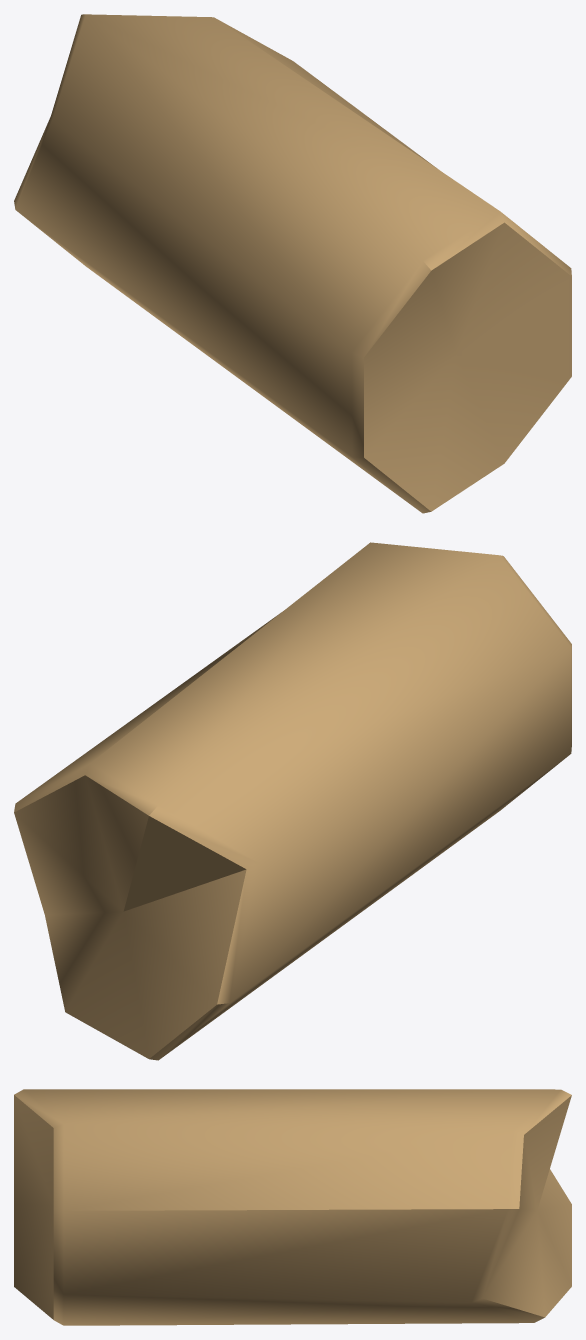
Rendered from BrokenRuin_pillarMid_03.fbx.
The picture shows the model from 3 angles, top to bottom: view 1: azimuth 30°, elevation 25°; view 2: azimuth 150°, elevation 25°; view 3: azimuth 270°, elevation 25°; orthographic projection. The views are drawn at different scales.
Parts seen in each view (by area): view 1: pillarMid_03; view 2: pillarMid_03; view 3: pillarMid_03.
Boxes of the visible parts, left/top/right/bottom form: pillarMid_03: left=14, top=14, right=571, bottom=513; pillarMid_03: left=14, top=542, right=571, bottom=1060; pillarMid_03: left=14, top=1089, right=571, bottom=1325.
Bounding box in the file's own units: 116 × 117 × 287.
